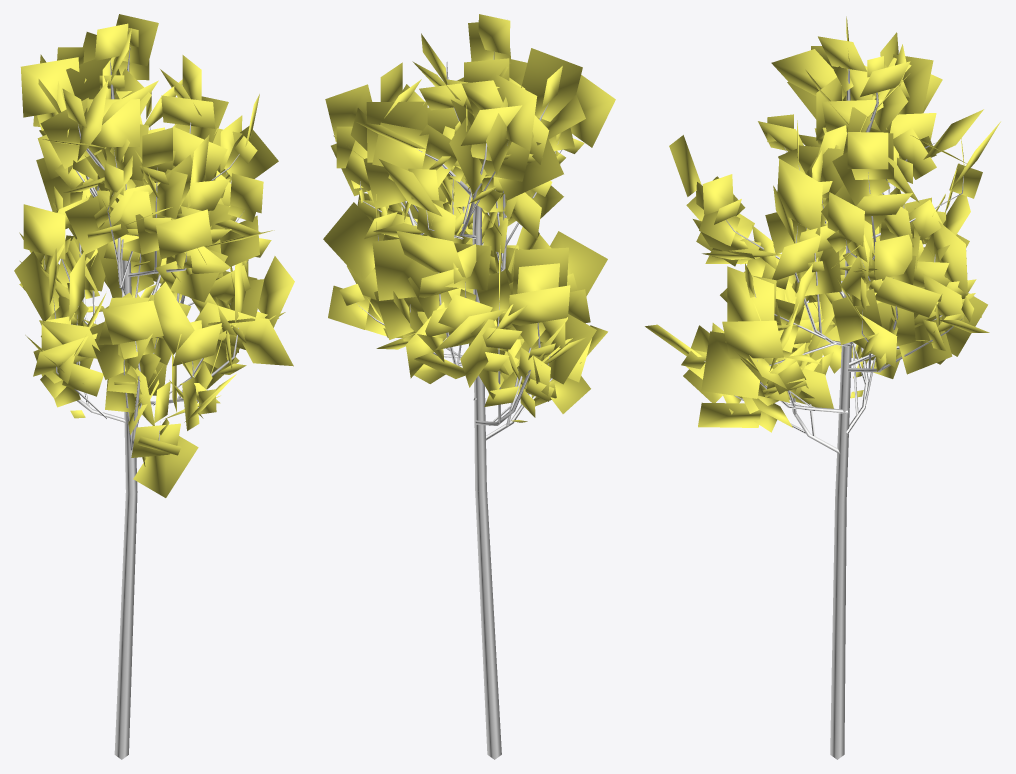
The model's file is aspen_medium_v1_lod2.glb.
3 views of the same model, side by side, from view 1: azimuth 30°, elevation 25°; view 2: azimuth 150°, elevation 25°; view 3: azimuth 270°, elevation 25° (orthographic). The views are drawn at different scales.
Parts seen in each view (by area): view 1: Leaves, Branches; view 2: Leaves, Branches; view 3: Leaves, Branches.
Boxes of the visible parts, x1=… form: Leaves: x1=14, y1=14, x2=294, y2=497; Branches: x1=44, y1=47, x2=248, y2=759; Leaves: x1=323, y1=14, x2=615, y2=422; Branches: x1=356, y1=52, x2=562, y2=759; Leaves: x1=645, y1=16, x2=1000, y2=432; Branches: x1=704, y1=69, x2=963, y2=759.
Bounding box in the file's own units: 24.69 × 70.12 × 30.99.
